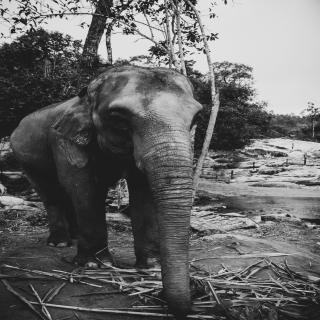Elephant: (9, 63, 206, 319)
